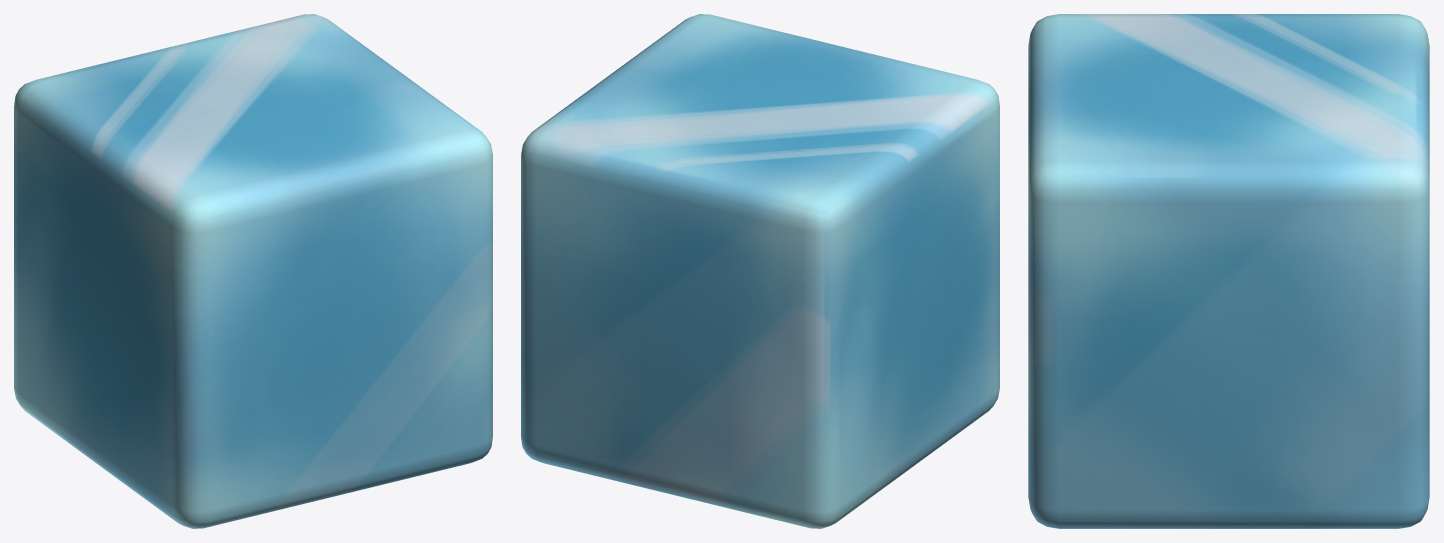
The model's file is kubik sar.fbx.
3 renders of one model, left to right at view 1: azimuth 30°, elevation 25°; view 2: azimuth 150°, elevation 25°; view 3: azimuth 270°, elevation 25°, orthographic. The views are drawn at different scales.
Visible parts, largest first — view 1: Box002; view 2: Box002; view 3: Box002.
Part boxes in pixels (left/top/right/bottom): Box002: left=14, top=14, right=492, bottom=528; Box002: left=521, top=14, right=999, bottom=528; Box002: left=1028, top=14, right=1429, bottom=528.
Bounding box in the file's own units: 2058 × 2058 × 2058.
